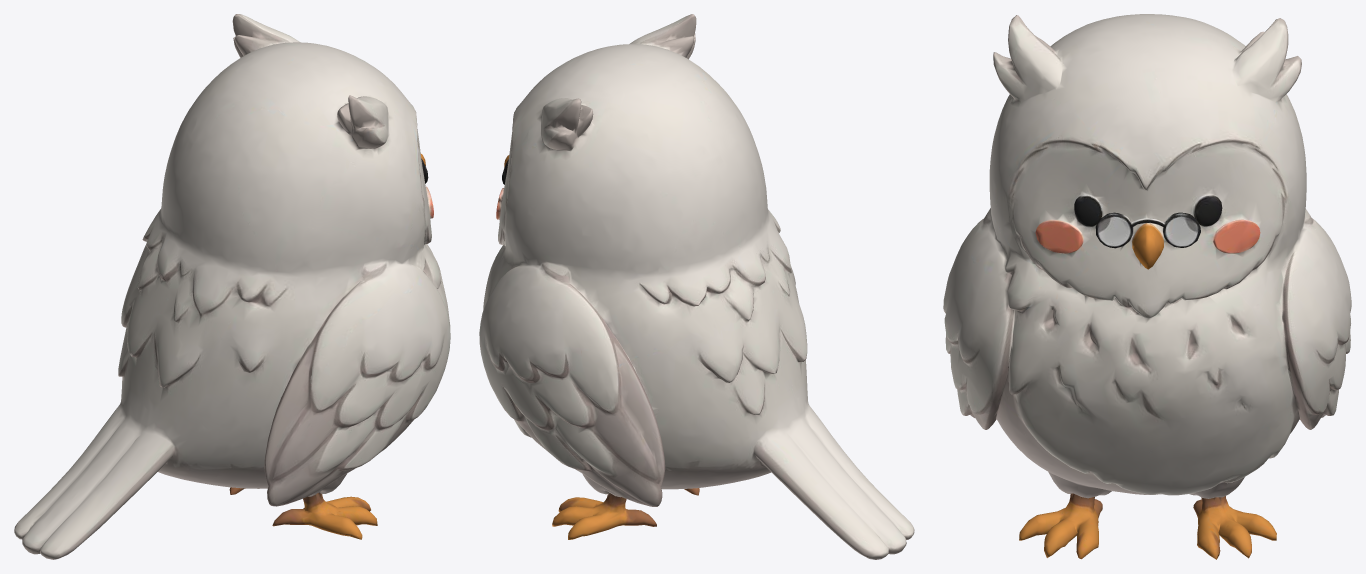
File: common_owl.glb
The picture shows the model from 3 angles, left to right: view 1: azimuth 30°, elevation 25°; view 2: azimuth 150°, elevation 25°; view 3: azimuth 270°, elevation 25°; orthographic projection. The views are drawn at different scales.
Parts seen in each view (by area): view 1: tripo_node_3ae6f719-1200-48f7-ad7b-c2e020ad9564; view 2: tripo_node_3ae6f719-1200-48f7-ad7b-c2e020ad9564; view 3: tripo_node_3ae6f719-1200-48f7-ad7b-c2e020ad9564.
Part boxes in pixels (left/top/right/bottom): tripo_node_3ae6f719-1200-48f7-ad7b-c2e020ad9564: left=14, top=14, right=450, bottom=559; tripo_node_3ae6f719-1200-48f7-ad7b-c2e020ad9564: left=479, top=14, right=914, bottom=559; tripo_node_3ae6f719-1200-48f7-ad7b-c2e020ad9564: left=943, top=14, right=1351, bottom=559.
Bounding box in the file's own units: 0.9319 × 1 × 0.7113.
Materials: 1 (1 with a texture image).
